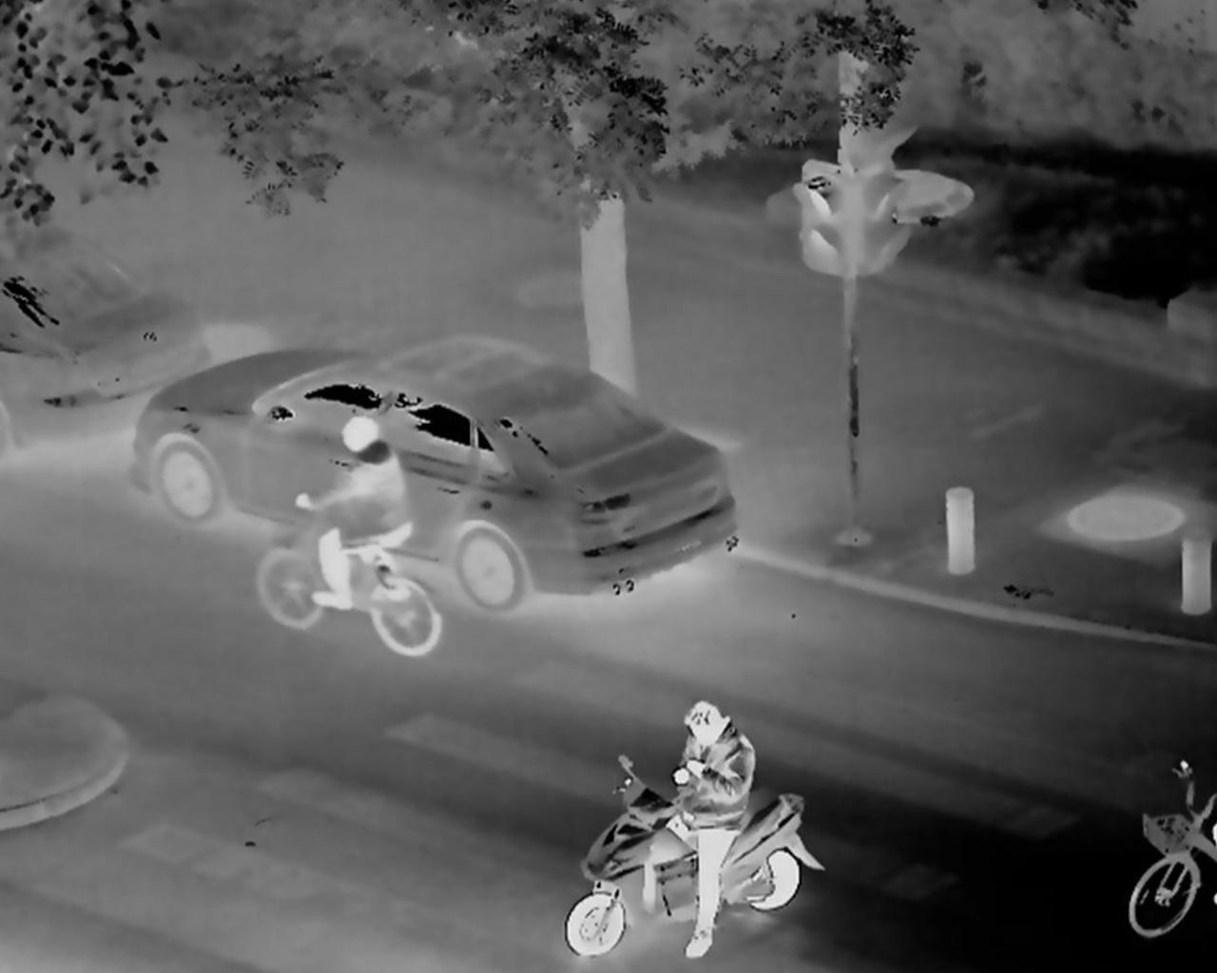person: (645, 695, 757, 962), (297, 418, 411, 622)
